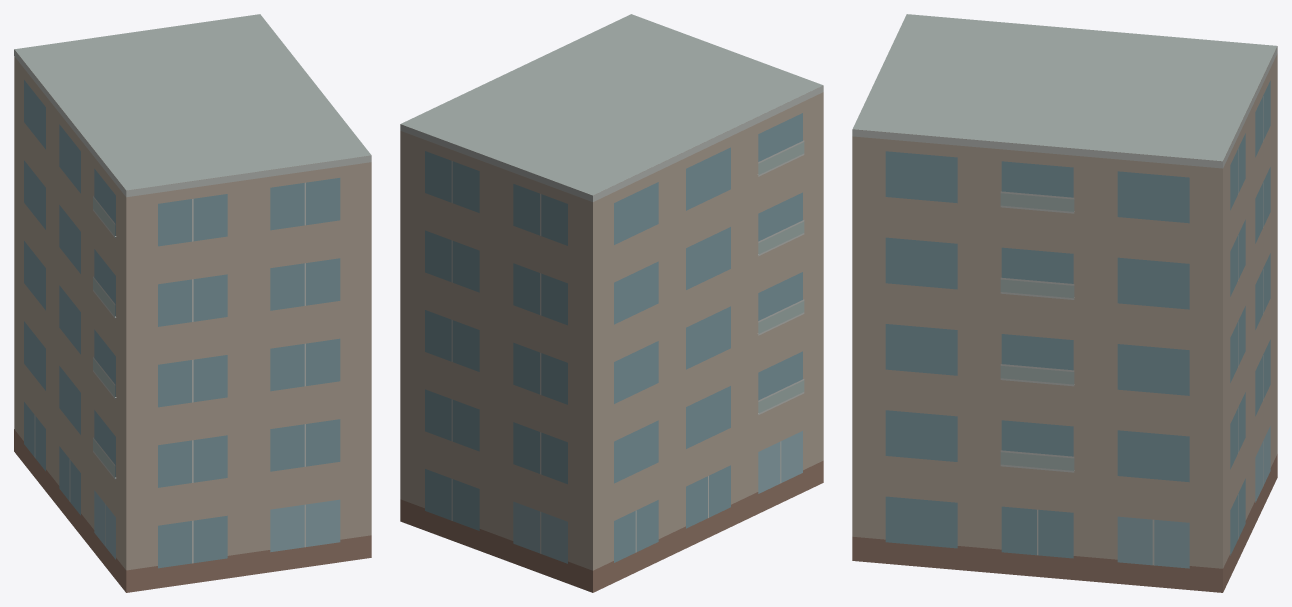
File: survey-upis-32885844.glb
3 views of the same model, side by side, from view 1: azimuth 30°, elevation 25°; view 2: azimuth 150°, elevation 25°; view 3: azimuth 270°, elevation 25° (orthographic). The views are drawn at different scales.
Visible parts, largest first — view 1: survey-upis-32885844.tmp; view 2: survey-upis-32885844.tmp; view 3: survey-upis-32885844.tmp.
Boxes of the visible parts, x1,y1,x2,y2 form: survey-upis-32885844.tmp: (14,14,371,592); survey-upis-32885844.tmp: (400,14,823,592); survey-upis-32885844.tmp: (852,14,1277,592).
Bounding box in the file's own units: 10.66 × 14.55 × 13.
